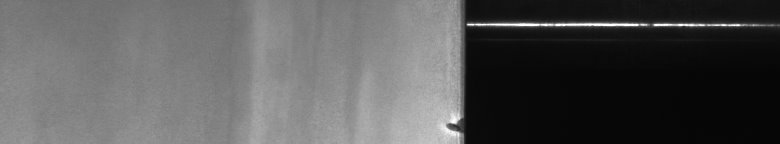hb: (440, 113, 452, 136)
